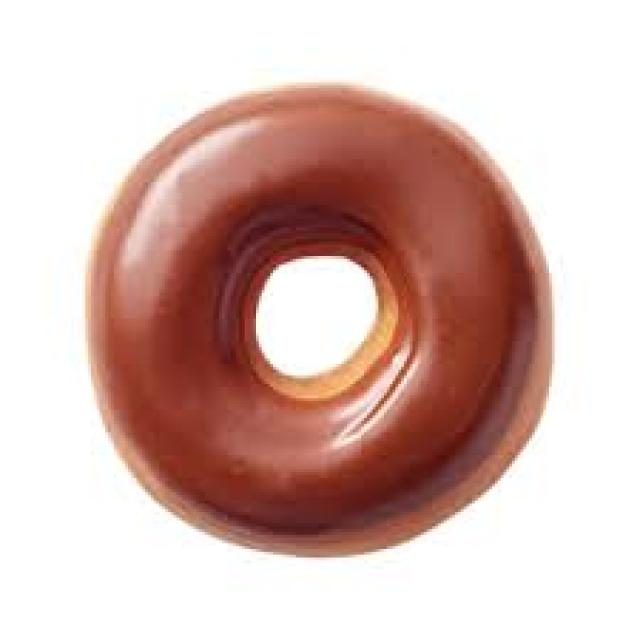Donut: (108, 113, 562, 546)
